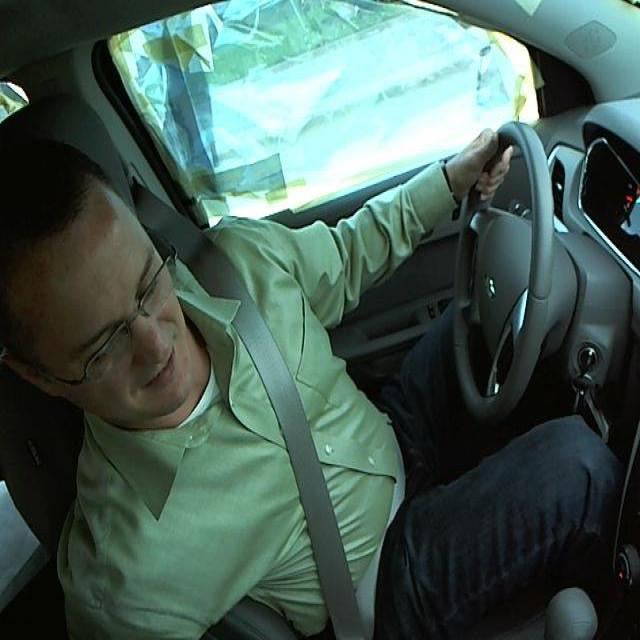seatbelt: (212, 287, 391, 632)
